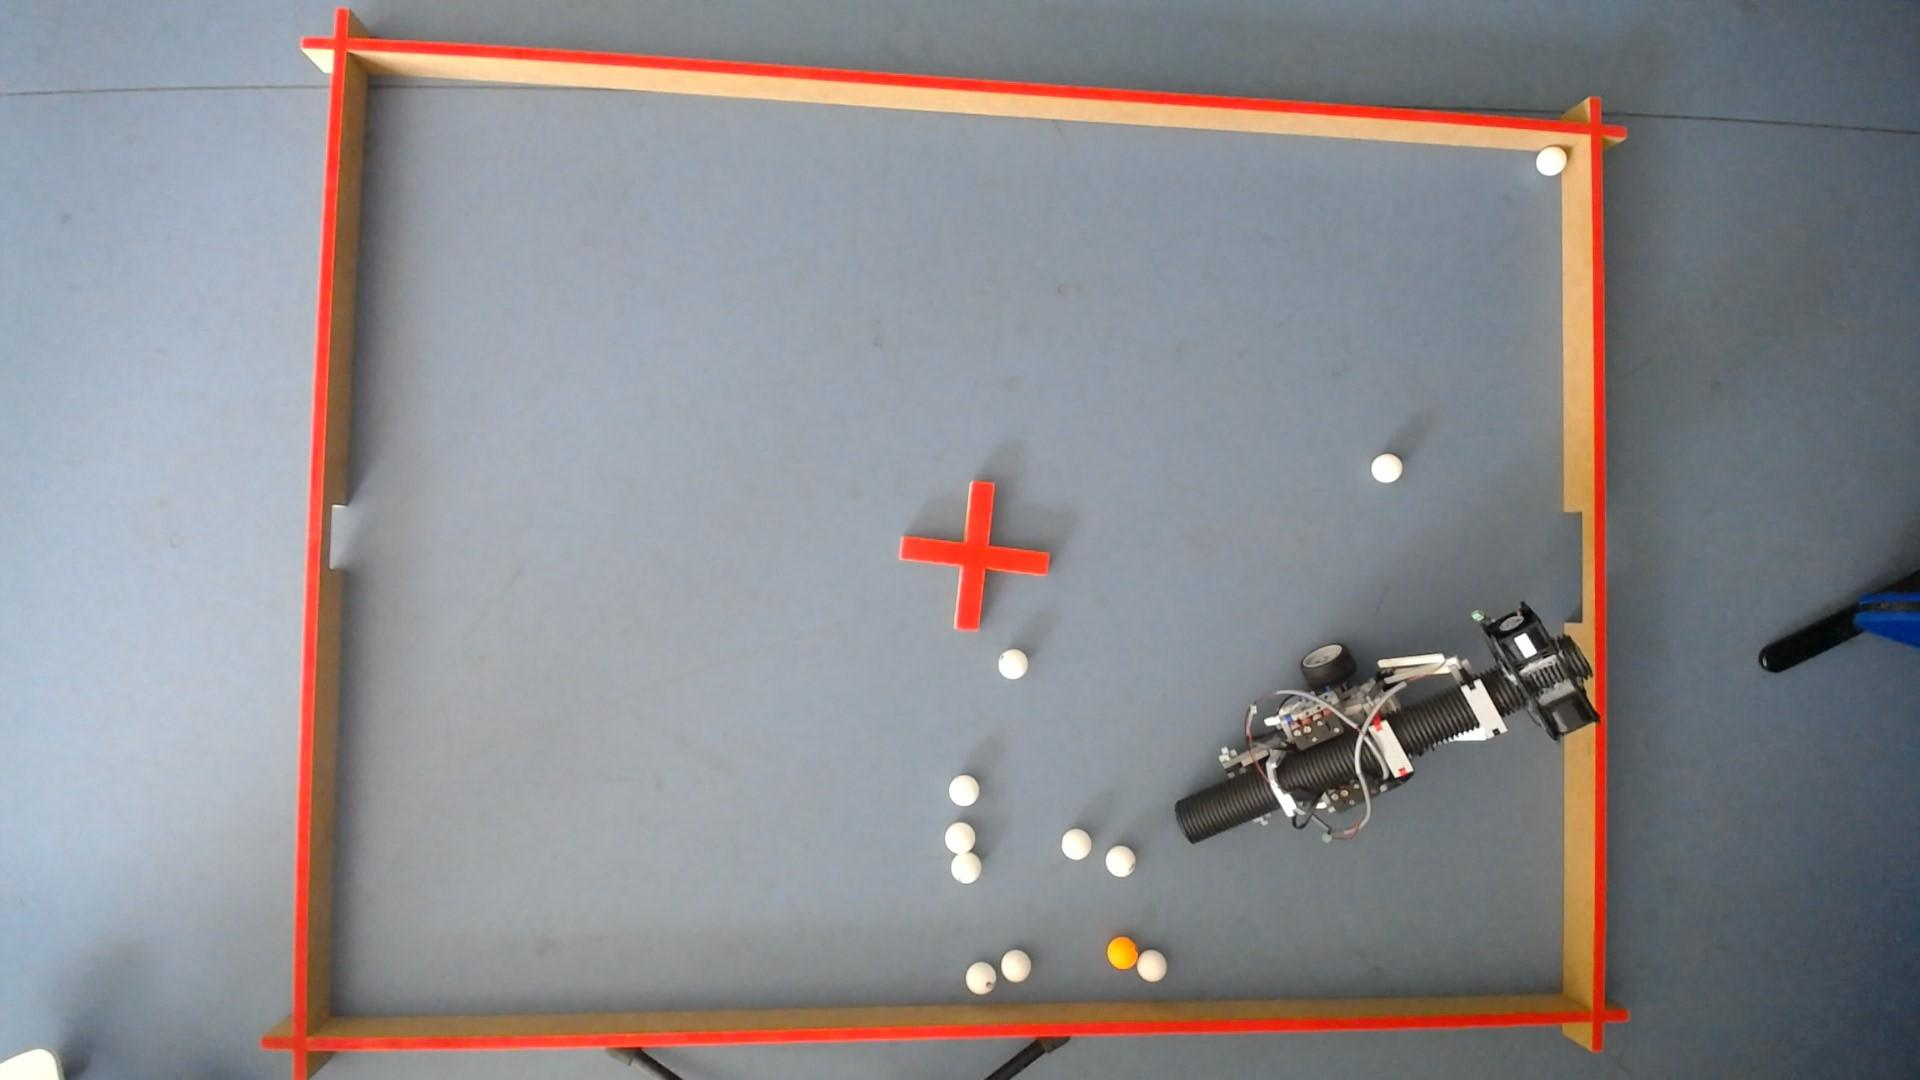orange: (1106, 936, 1141, 971)
robot: (1178, 603, 1602, 843)
white: (965, 961, 998, 997), (949, 852, 982, 885), (1371, 451, 1406, 483), (1137, 949, 1168, 984), (1538, 142, 1571, 174), (949, 774, 981, 807), (945, 822, 977, 855), (1062, 828, 1093, 860), (1002, 951, 1033, 982), (1106, 847, 1137, 877), (1000, 649, 1029, 679)
